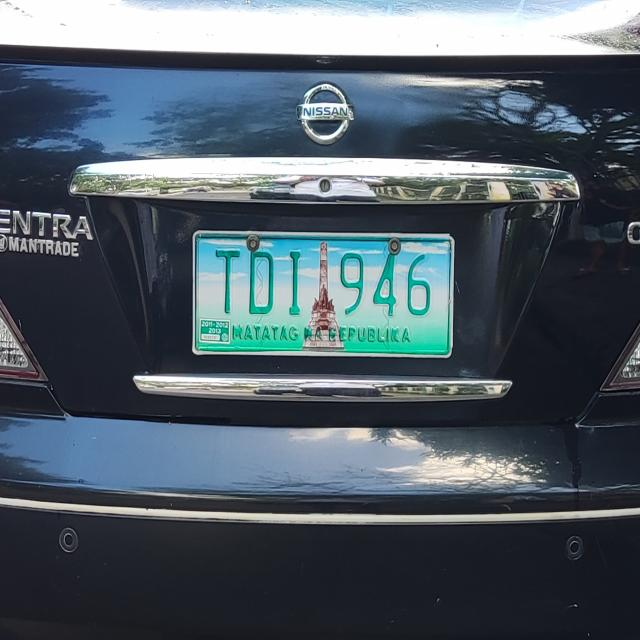plate: (187, 225, 460, 367)
